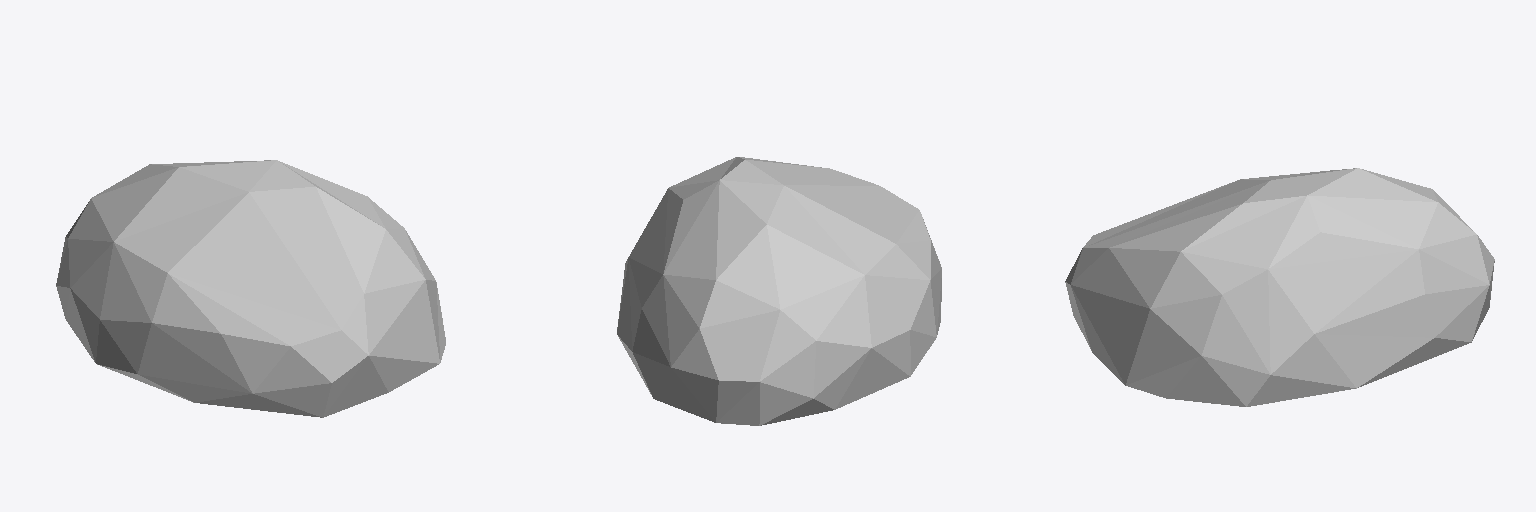
File: rock.obj
The picture shows the model from 3 angles: view 1: azimuth 30°, elevation 25°; view 2: azimuth 150°, elevation 25°; view 3: azimuth 270°, elevation 25°; orthographic projection.
Visible parts, largest first — view 1: Stone_average_01; view 2: Stone_average_01; view 3: Stone_average_01.
Part boxes in pixels (x1,y1,x2,y2): Stone_average_01: (56, 160, 445, 417); Stone_average_01: (617, 157, 941, 425); Stone_average_01: (1065, 168, 1494, 406).
Size of the model in its own units: 1.84 by 0.8993 by 2.26.